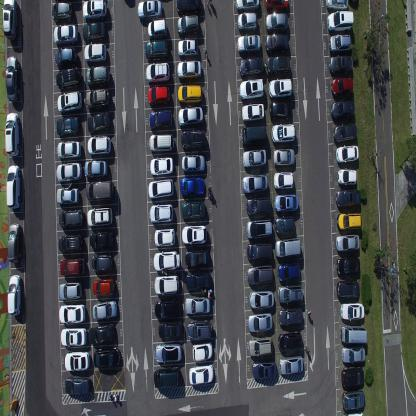car: (5, 55, 20, 103), (327, 9, 354, 34), (6, 164, 21, 209), (5, 111, 19, 158), (56, 89, 82, 114), (246, 263, 274, 286), (86, 180, 115, 202), (153, 249, 180, 272), (93, 346, 121, 368), (58, 302, 86, 324), (2, 0, 17, 41), (184, 247, 210, 270), (154, 273, 180, 296), (64, 349, 90, 372), (154, 298, 181, 320), (155, 342, 182, 364), (88, 323, 115, 345), (7, 222, 21, 264), (7, 274, 21, 316), (86, 110, 110, 134), (56, 66, 80, 90), (189, 363, 214, 386), (247, 311, 272, 334), (238, 78, 264, 100), (177, 84, 203, 106), (147, 178, 173, 200), (241, 124, 267, 146), (242, 172, 268, 194), (246, 217, 272, 239), (335, 188, 361, 210), (87, 205, 113, 227), (181, 224, 208, 245), (340, 324, 368, 344), (148, 107, 172, 130), (278, 330, 302, 353), (56, 114, 80, 137), (145, 61, 170, 83), (82, 0, 107, 22), (271, 122, 296, 144), (248, 336, 273, 358), (332, 122, 357, 144), (85, 87, 110, 109), (92, 298, 117, 320), (53, 24, 78, 46), (185, 271, 211, 292), (154, 366, 180, 387), (274, 237, 300, 258), (56, 161, 82, 182), (60, 327, 87, 347), (341, 365, 364, 388), (176, 13, 198, 37), (177, 58, 201, 80), (150, 202, 174, 224), (268, 77, 292, 99), (86, 66, 110, 88), (88, 134, 112, 156), (137, 0, 162, 21), (178, 106, 203, 127), (180, 176, 205, 197), (242, 148, 267, 169), (330, 100, 355, 121), (180, 129, 206, 149), (148, 132, 174, 152), (273, 193, 299, 213), (277, 284, 303, 304), (59, 256, 85, 276), (58, 208, 84, 228), (265, 12, 288, 34), (145, 40, 168, 62), (269, 100, 292, 122), (328, 33, 351, 55), (342, 389, 365, 411), (82, 21, 105, 43), (265, 34, 289, 55), (240, 56, 264, 77), (150, 156, 174, 177), (188, 319, 212, 340), (335, 143, 359, 164), (337, 211, 361, 232), (336, 256, 360, 277), (58, 280, 82, 301), (247, 241, 272, 261), (249, 290, 274, 310), (278, 306, 303, 326), (335, 233, 360, 253), (340, 301, 365, 321), (185, 295, 211, 314), (278, 261, 300, 283), (267, 55, 290, 76), (147, 85, 170, 106), (92, 276, 115, 297), (237, 33, 261, 53), (252, 359, 276, 379), (279, 355, 303, 375), (58, 232, 82, 252), (181, 201, 206, 220), (158, 320, 183, 339), (89, 230, 114, 249), (65, 376, 90, 395), (246, 198, 272, 216), (56, 140, 82, 158), (84, 42, 106, 63), (146, 16, 166, 39), (273, 147, 296, 167), (329, 54, 352, 74), (330, 76, 353, 96), (54, 46, 77, 66), (52, 0, 72, 23), (181, 154, 205, 173), (336, 280, 360, 299), (341, 345, 366, 363), (274, 214, 295, 235), (242, 102, 264, 122), (177, 38, 199, 58), (154, 227, 176, 247), (192, 341, 212, 363), (272, 171, 294, 191), (84, 159, 107, 178), (56, 185, 79, 204), (337, 166, 357, 186), (237, 12, 258, 31), (92, 254, 114, 272), (176, 0, 202, 15), (235, 0, 260, 12), (265, 0, 289, 12), (325, 0, 349, 11), (342, 411, 364, 415)
